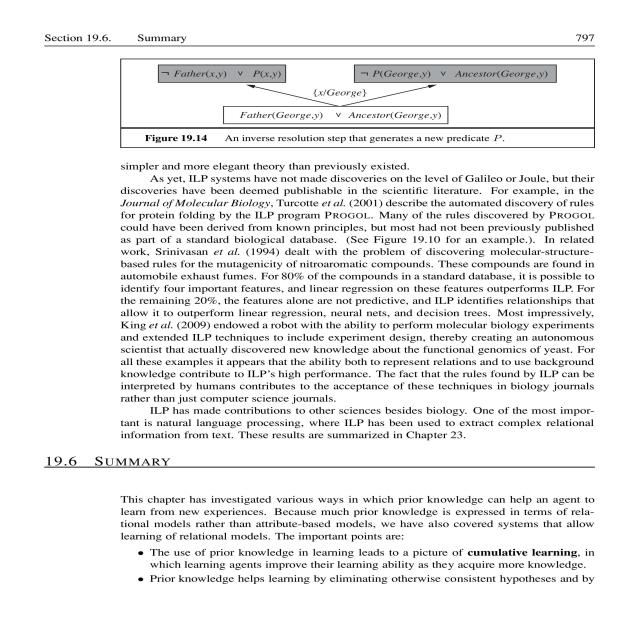diagram: (112, 52, 640, 161)
